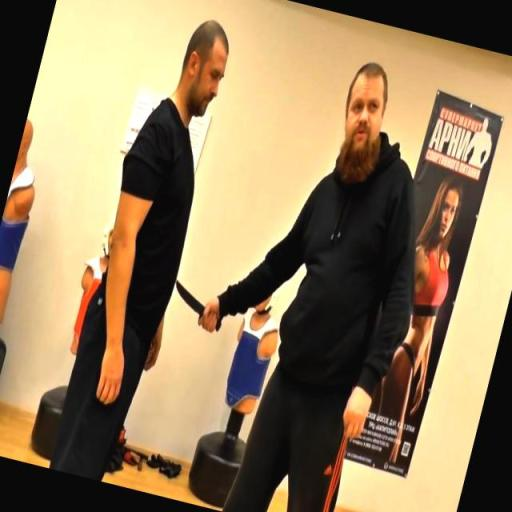knife: (164, 276, 230, 337)
